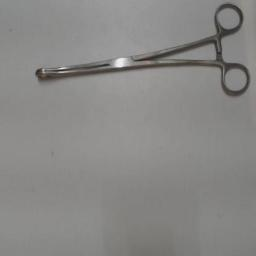Sponge Forceps: (30, 1, 254, 105)
